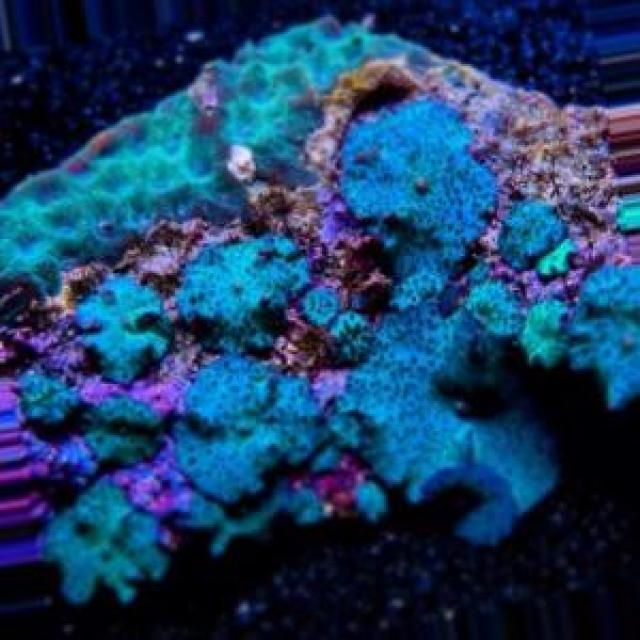healthy coral: (0, 19, 614, 603)
